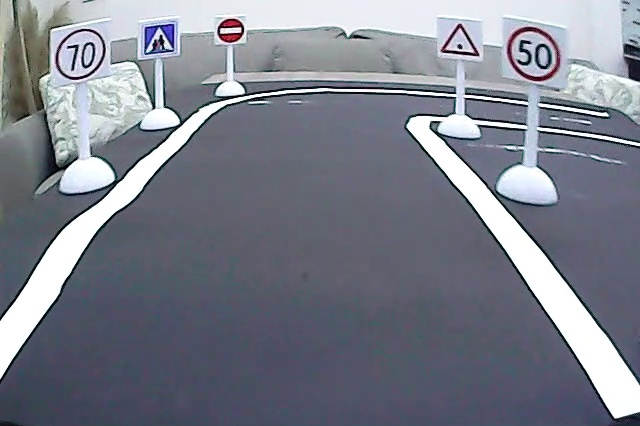do not enter: (214, 16, 245, 45)
green light: (437, 20, 483, 61)
school crossing: (139, 20, 179, 59)
speed limit 50: (503, 22, 563, 86)
speed limit 70: (53, 24, 110, 81)
